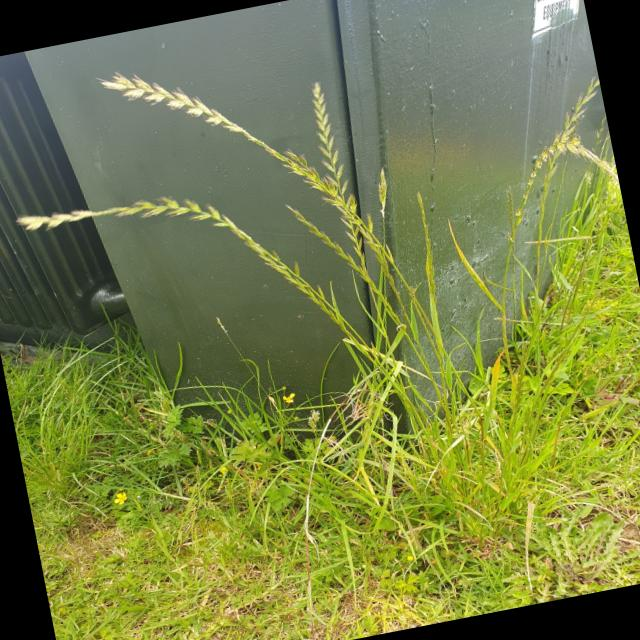Lolium: (16, 158, 334, 367), (98, 53, 246, 162), (506, 76, 616, 180), (309, 78, 362, 210)
